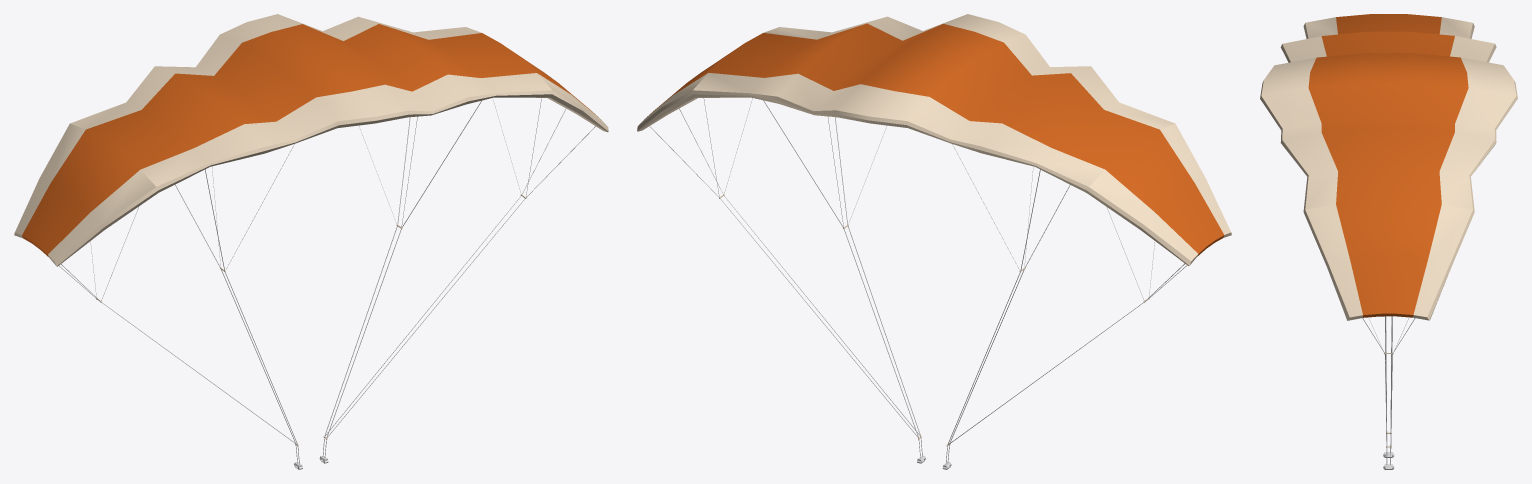
File: parachute.fbx
3 views of the same model, side by side, from view 1: azimuth 30°, elevation 25°; view 2: azimuth 150°, elevation 25°; view 3: azimuth 270°, elevation 25° (orthographic). The views are drawn at different scales.
Visible parts, largest first — view 1: parasut; view 2: parasut; view 3: parasut.
Boxes of the visible parts, x1,y1,x2,y2 form: parasut: (14, 14, 608, 266); parasut: (637, 14, 1231, 265); parasut: (1260, 14, 1517, 320).
Size of the model in its own units: 11.27 by 7.93 by 4.7.
